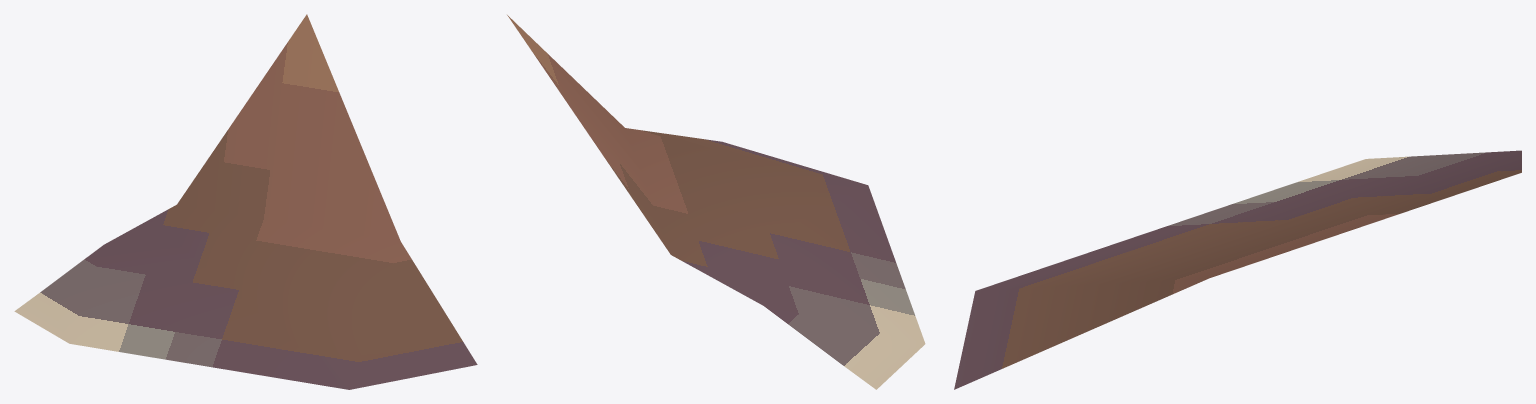
3 renders of one model, left to right at view 1: azimuth 30°, elevation 25°; view 2: azimuth 150°, elevation 25°; view 3: azimuth 270°, elevation 25°, orthographic. The views are drawn at different scales.
Bounding box in the file's own units: 0.45 × 0.332 × 0.4545.
2 materials, 2 textured.
